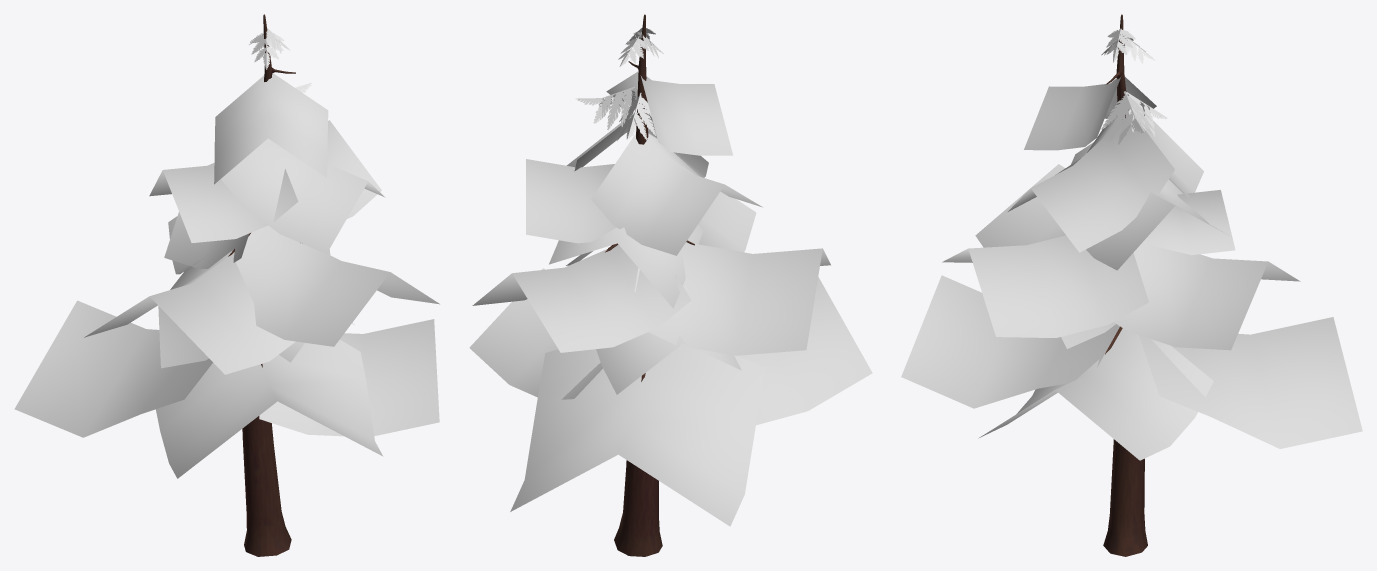
Rendered from Pine.fbx.
The picture shows the model from 3 angles, left to right: view 1: azimuth 30°, elevation 25°; view 2: azimuth 150°, elevation 25°; view 3: azimuth 270°, elevation 25°; orthographic projection.
Visible parts, largest first — view 1: Branches, Trunk; view 2: Branches, Trunk; view 3: Branches, Trunk.
Part boxes in pixels (x1,y1,x2,y2): Branches: [14, 28, 439, 478]; Trunk: [228, 14, 295, 556]; Branches: [469, 27, 872, 526]; Trunk: [605, 14, 694, 556]; Branches: [901, 28, 1362, 460]; Trunk: [1103, 14, 1147, 556].
Bounding box in the file's own units: 9.12 × 13.76 × 10.86.
